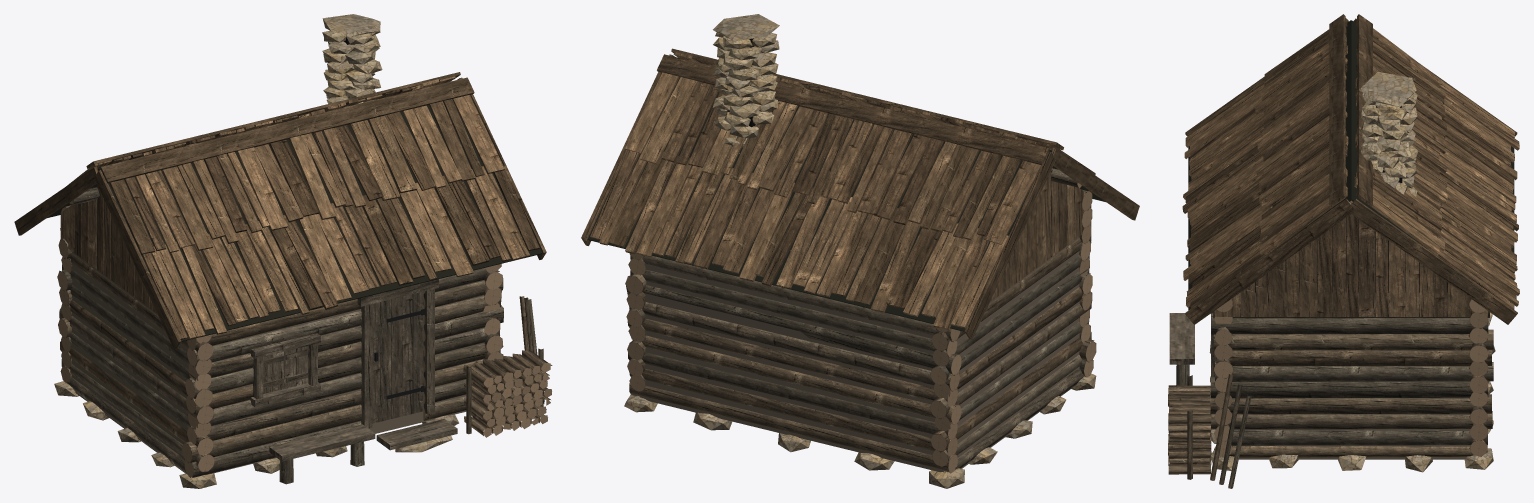
The model's file is house-w1-lite.glb.
3 views of the same model, side by side, from view 1: azimuth 30°, elevation 25°; view 2: azimuth 150°, elevation 25°; view 3: azimuth 270°, elevation 25° (orthographic). The views are drawn at different scales.
Parts seen in each view (by area): view 1: Body, Door; view 2: Body; view 3: Body.
Part boxes in pixels (<box>): Body: <box>14,14,552,488</box>; Door: <box>372,291,424,423</box>; Body: <box>581,14,1139,488</box>; Body: <box>1168,14,1519,488</box>.
Size of the model in its own units: 6 by 5.22 by 4.69.
4 materials, 3 textured.
